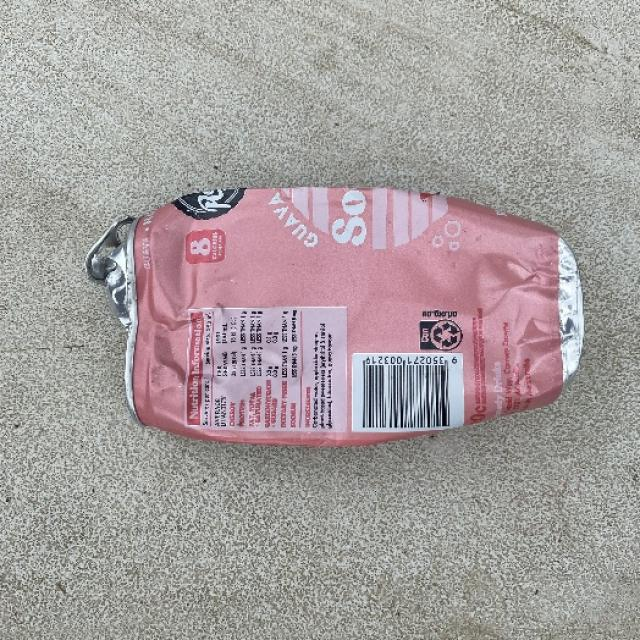metal: (84, 184, 584, 446)
